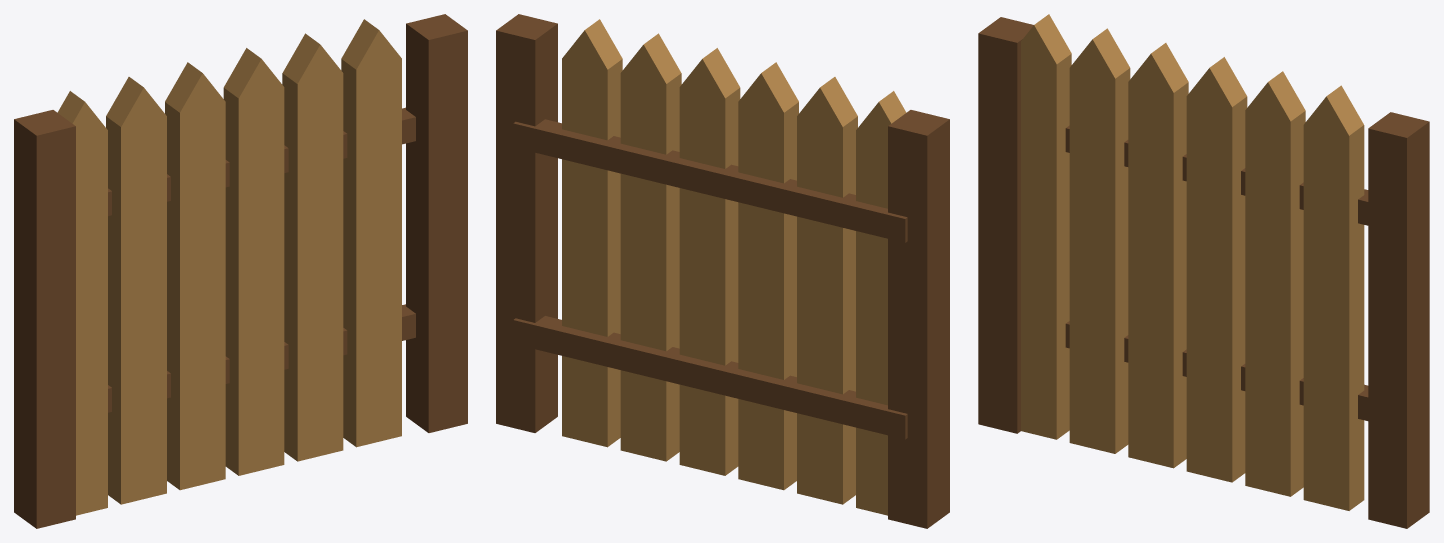
File: DomesticGate.obj
3 renders of one model, left to right at view 1: azimuth 30°, elevation 25°; view 2: azimuth 150°, elevation 25°; view 3: azimuth 330°, elevation 25°, orthographic.
Parts seen in each view (by area): view 1: DomesticGate; view 2: DomesticGate; view 3: DomesticGate.
Boxes of the visible parts, bbox=[...] form: DomesticGate: bbox=[14, 14, 467, 528]; DomesticGate: bbox=[496, 14, 949, 528]; DomesticGate: bbox=[978, 14, 1429, 528].
Size of the model in its own units: 1.32 by 1.2 by 0.1325.
